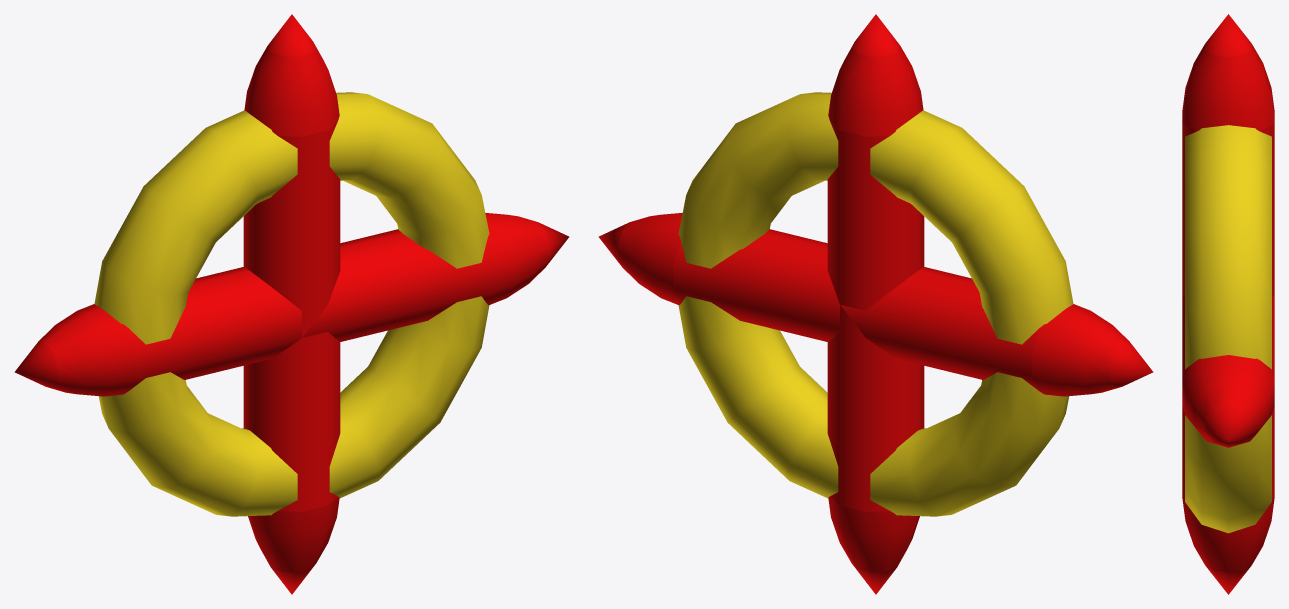
Rendered from AimRing.fbx.
The picture shows the model from 3 angles, left to right: view 1: azimuth 30°, elevation 25°; view 2: azimuth 150°, elevation 25°; view 3: azimuth 270°, elevation 25°; orthographic projection.
Visible parts, largest first — view 1: Torus.001; view 2: Torus.001; view 3: Torus.001.
Part boxes in pixels (x1,y1,x2,y2): Torus.001: (14,14,569,594); Torus.001: (598,14,1153,594); Torus.001: (1182,14,1274,594).
Bounding box in the file's own units: 350 × 350 × 50.3.
